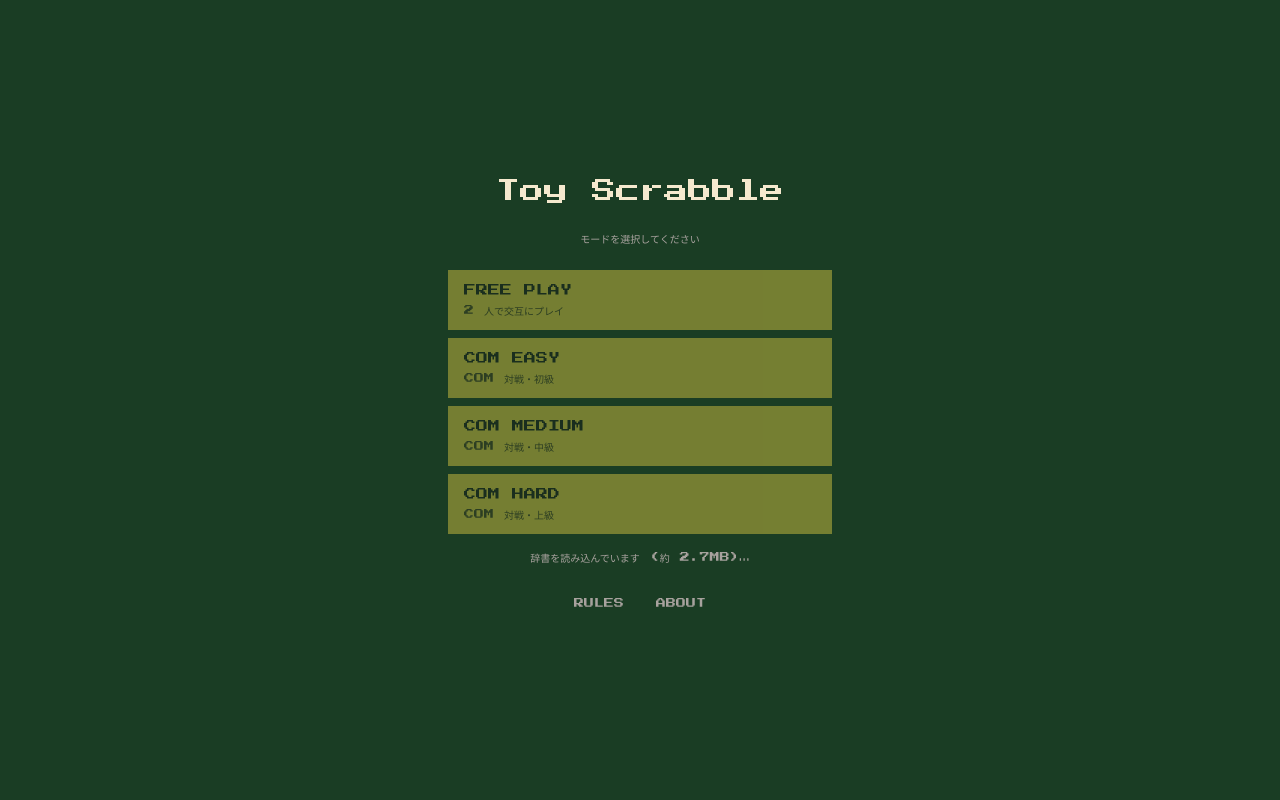
it: App のルール表示 › RULES を押すとルールのダイアログが開く
Click the button "RULES" at (599, 603), box [562, 581, 636, 625]
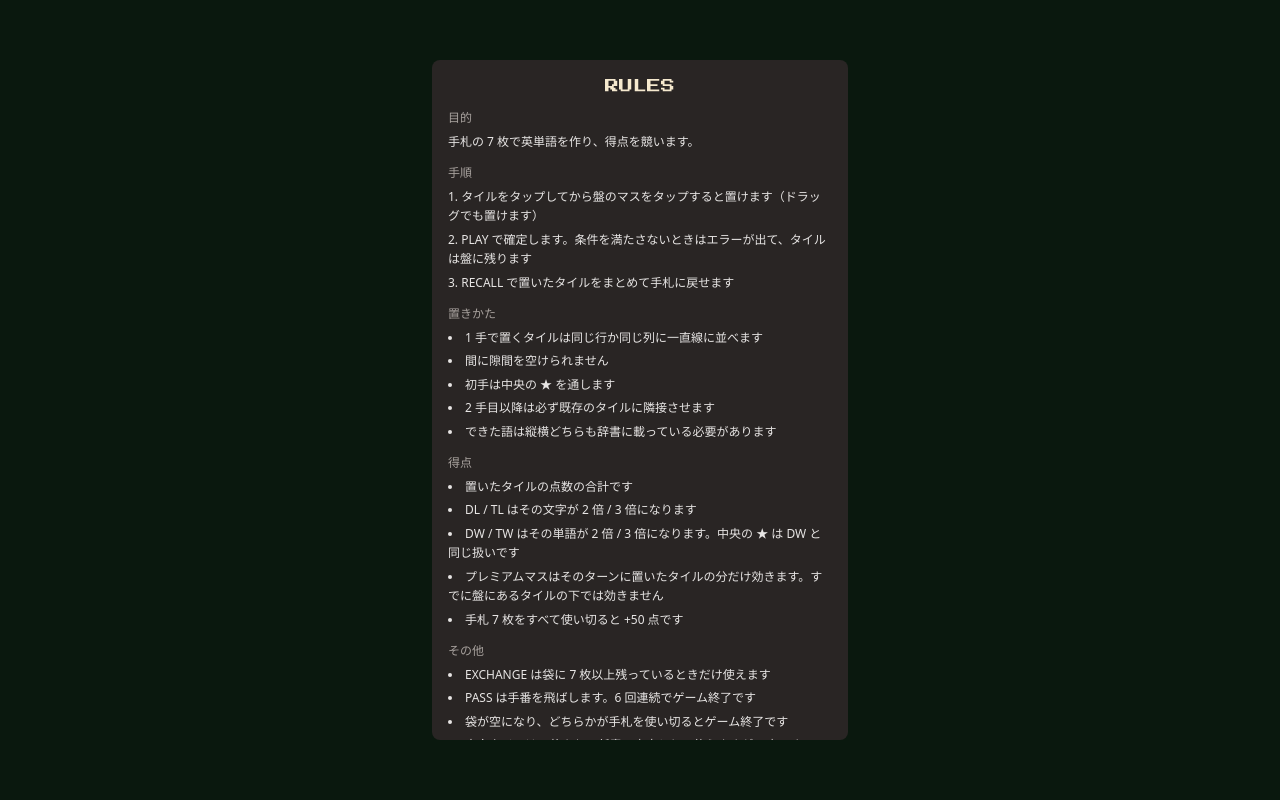
Result: the dialog "RULES" is shown at [432, 60, 848, 740]
Result: the list item "1 手で置くタイルは同じ行か同じ列に一直線に並べます" is shown at [465, 328, 763, 346]
